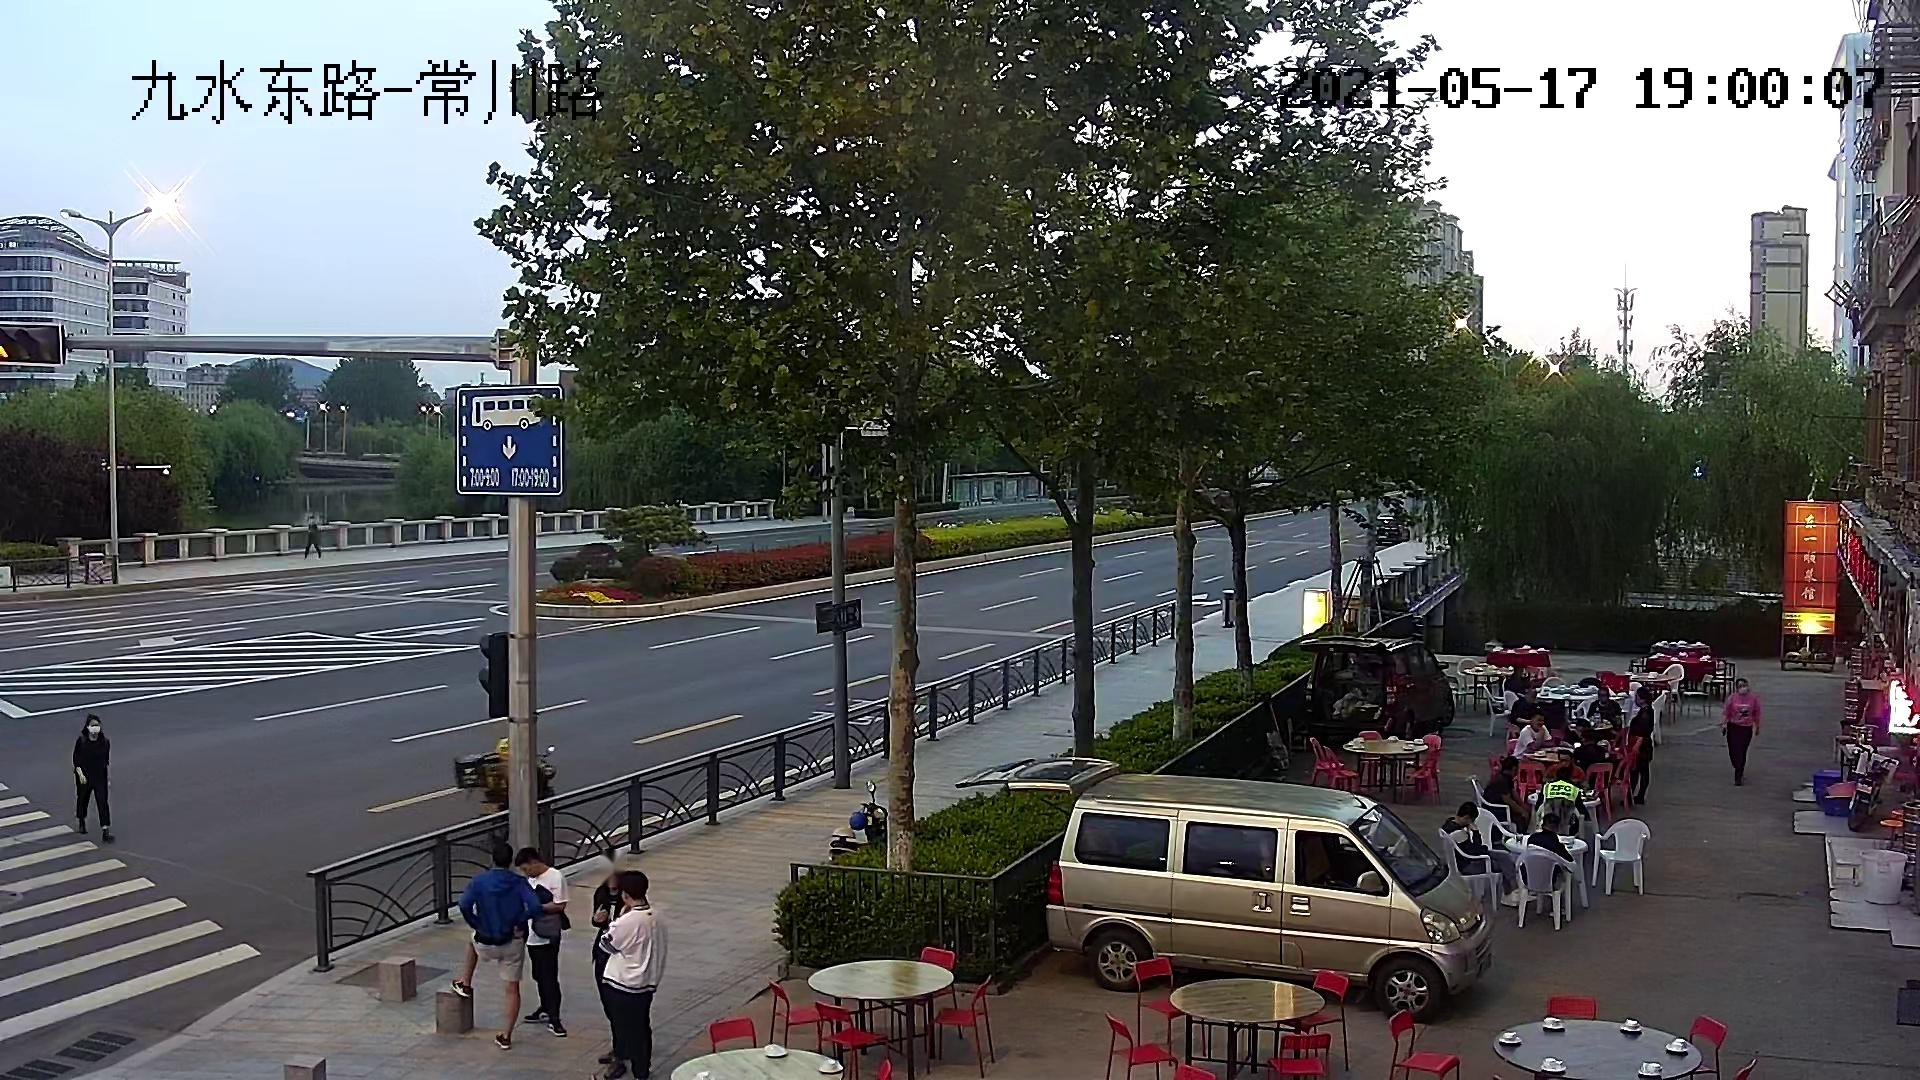chair: (1133, 956, 1207, 1064), (890, 945, 963, 1043), (931, 972, 994, 1077), (1298, 969, 1354, 1072), (814, 1002, 887, 1077), (1437, 828, 1498, 913), (1387, 1009, 1460, 1077), (1513, 848, 1573, 930), (1102, 1011, 1178, 1077), (1592, 818, 1652, 895), (767, 977, 822, 1052), (1455, 655, 1516, 713), (1265, 1034, 1335, 1077), (1470, 778, 1520, 833), (1400, 746, 1447, 803), (1689, 1014, 1730, 1077), (1399, 735, 1444, 789), (1534, 796, 1585, 836), (1307, 737, 1346, 786), (1635, 691, 1669, 746), (1585, 762, 1615, 823), (1323, 746, 1362, 793), (1609, 752, 1638, 812), (1357, 728, 1385, 789), (1826, 837, 1859, 887), (1658, 662, 1687, 713), (1455, 658, 1484, 705), (1683, 675, 1714, 717), (1480, 684, 1506, 732), (1516, 760, 1545, 800), (1880, 819, 1903, 849), (1487, 749, 1505, 779), (1569, 700, 1594, 719)
table: (808, 956, 955, 1075), (1166, 977, 1327, 1077), (1491, 1015, 1702, 1077), (1503, 833, 1589, 916), (1342, 738, 1429, 794), (1520, 742, 1615, 787), (1534, 687, 1633, 727), (1646, 647, 1717, 698), (1524, 787, 1601, 833), (1485, 645, 1549, 696), (1615, 667, 1673, 720), (1465, 665, 1515, 712), (1648, 636, 1712, 657)
table_chair: (1102, 953, 1354, 1077), (766, 944, 996, 1077), (1435, 816, 1654, 932), (1385, 1007, 1731, 1079), (1485, 741, 1639, 825), (1478, 680, 1669, 748), (1305, 727, 1447, 804), (1468, 777, 1602, 837), (1613, 661, 1716, 723)
uncertain: (1705, 654, 1739, 699), (1832, 719, 1858, 764)
